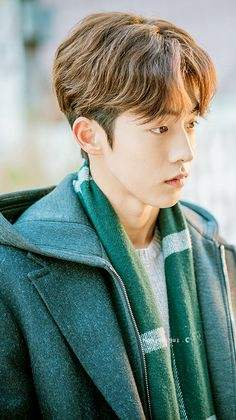person: (34, 13, 221, 366)
